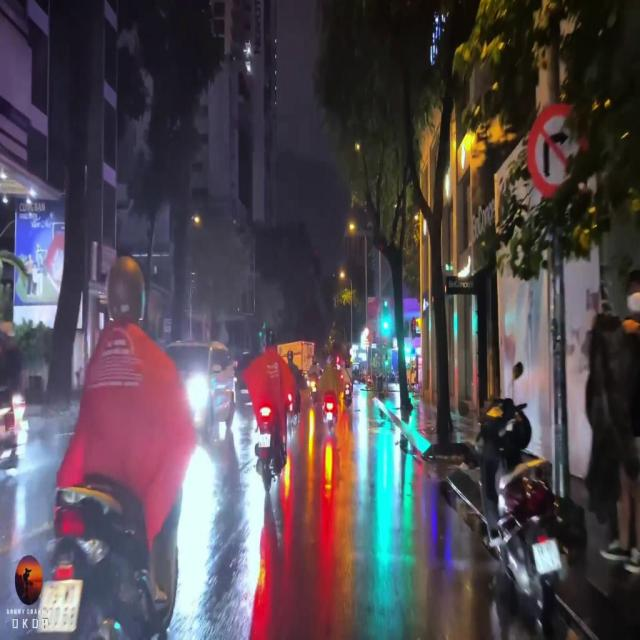cam_re_phai: (527, 105, 587, 197)
